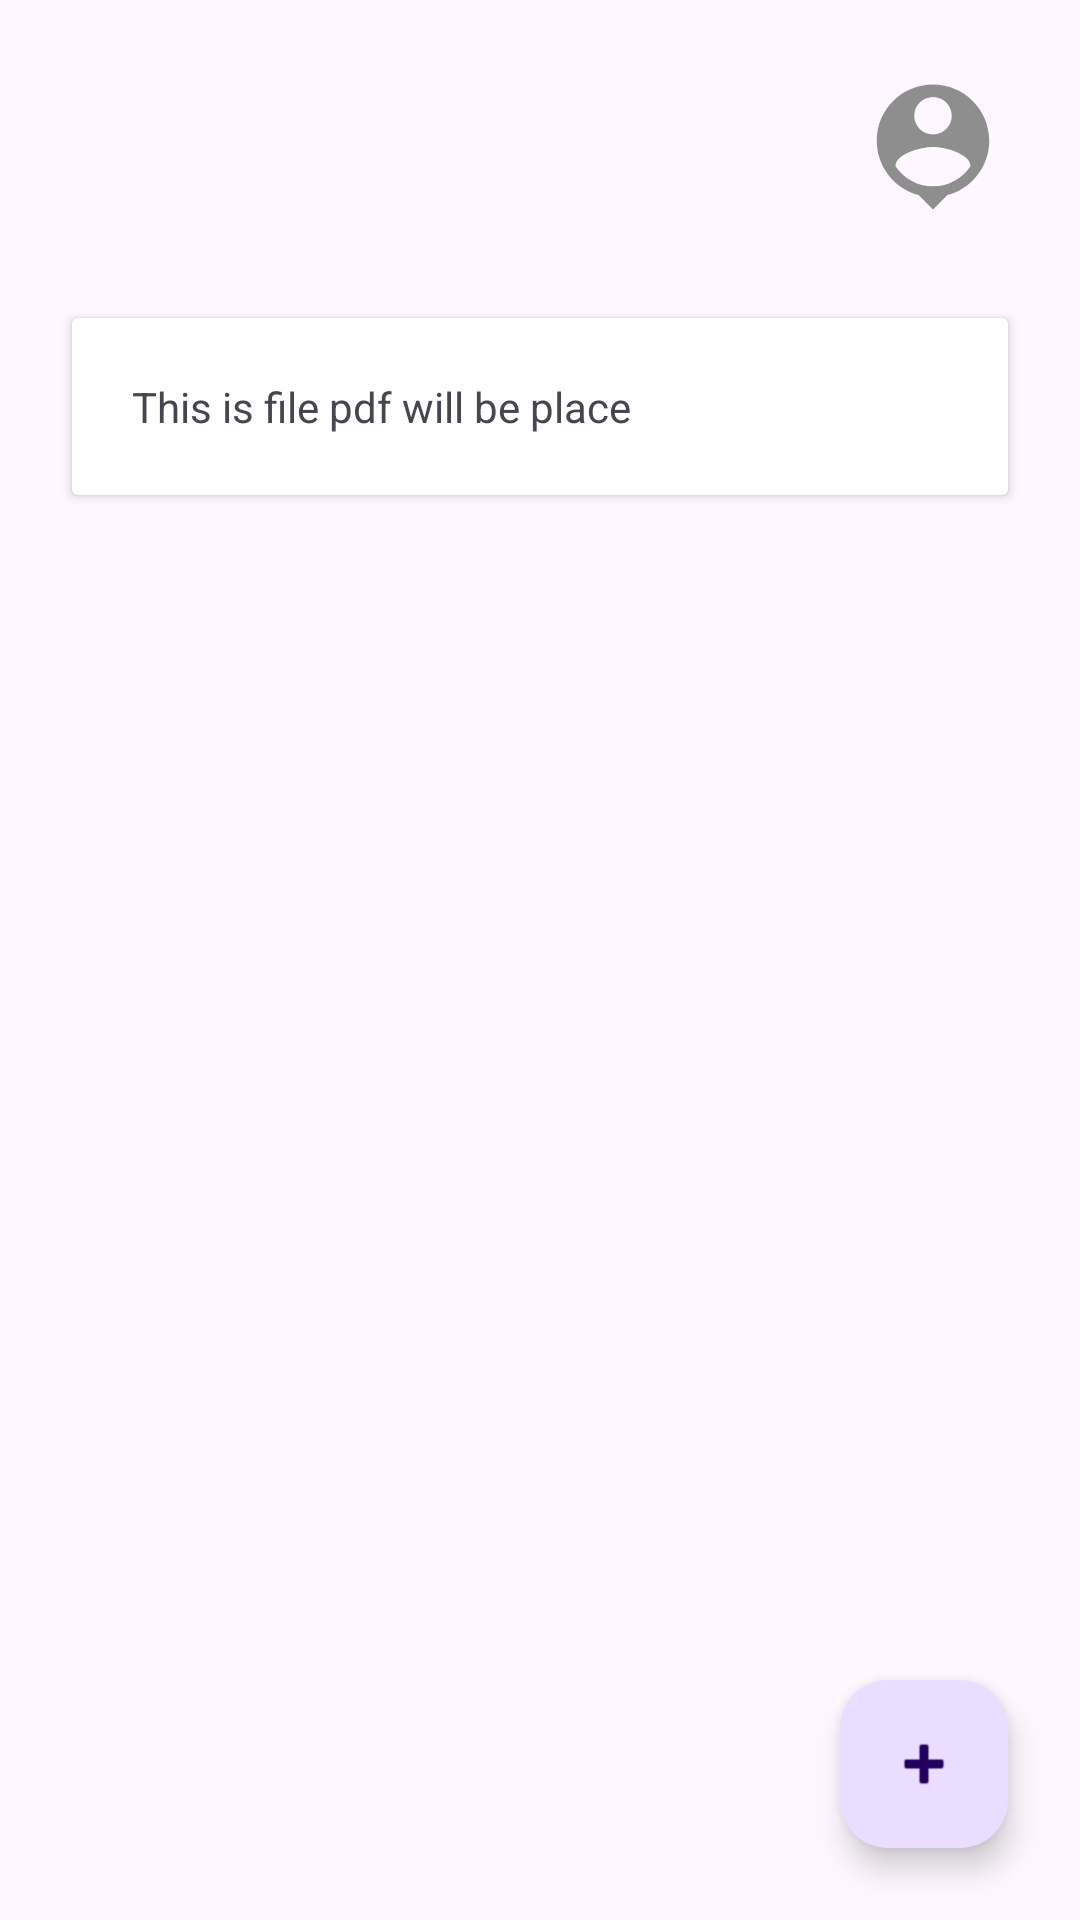

Icon click points for this 1080 × 1920 phone screenshot, format point (x, y):
add: point (924, 1764)
profile: point (933, 146)
